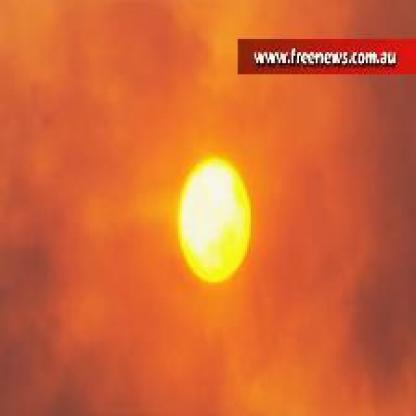other: (121, 128, 303, 320)
